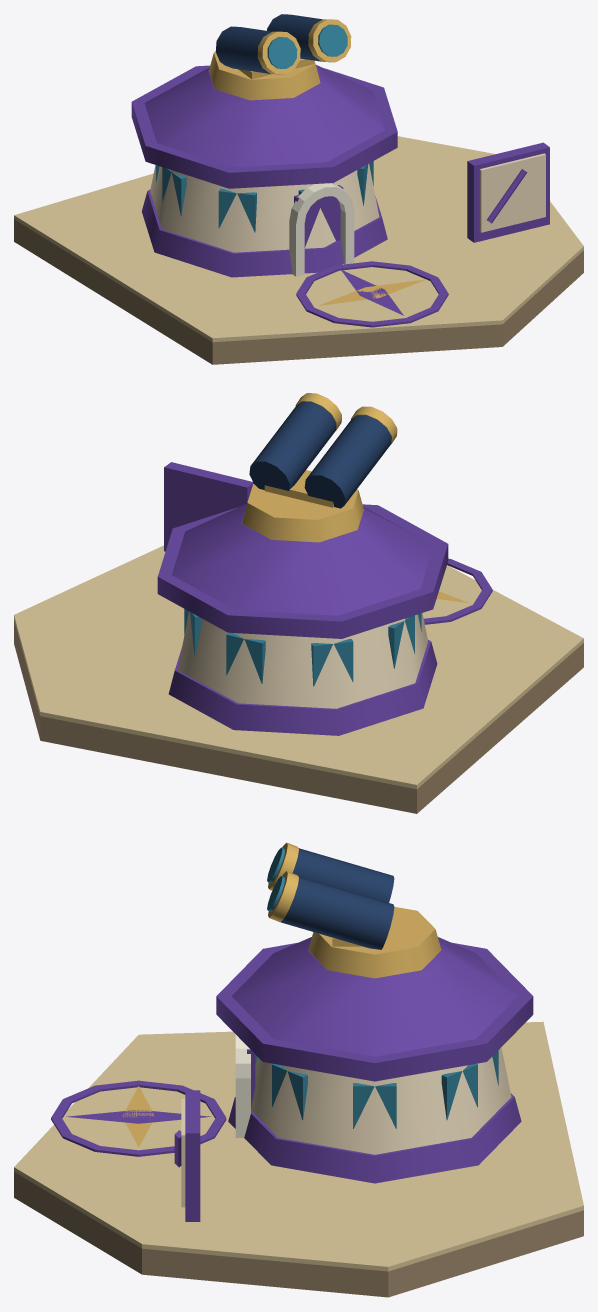
File: scout-center-lv1.glb
The picture shows the model from 3 angles, top to bottom: view 1: azimuth 30°, elevation 25°; view 2: azimuth 150°, elevation 25°; view 3: azimuth 270°, elevation 25°; orthographic projection. The views are drawn at different scales.
Parts seen in each view (by area): view 1: foundation_sand, faceted_roof_violet, foundation_stoneDark, octagonal_office_cream, observation_eave_violet, office_plinth_violet, map_board_cream, compass_violet, roof_binoculars_naval, optic_pedestal_gold, entrance_arch_white, map_board_violet (+5 smaller); view 2: foundation_sand, faceted_roof_violet, foundation_stoneDark, octagonal_office_cream, observation_eave_violet, roof_binoculars_naval, office_plinth_violet, optic_pedestal_gold, map_board_violet, office_windows_glass, optic_rims_gold, compass_violet (+1 smaller); view 3: foundation_sand, faceted_roof_violet, octagonal_office_cream, foundation_stoneDark, observation_eave_violet, office_plinth_violet, roof_binoculars_naval, optic_pedestal_gold, compass_violet, office_windows_glass, map_board_violet, entrance_arch_white (+3 smaller).
Boxes of the visible parts, box(x1,y1,x2,y2) form: foundation_sand: box(14, 136, 583, 342); faceted_roof_violet: box(144, 65, 384, 167); foundation_stoneDark: box(14, 219, 583, 364); octagonal_office_cream: box(150, 163, 379, 252); observation_eave_violet: box(131, 65, 397, 188); office_plinth_violet: box(141, 189, 387, 277); map_board_cream: box(479, 153, 545, 232); compass_violet: box(296, 261, 448, 327); roof_binoculars_naval: box(215, 14, 322, 73); optic_pedestal_gold: box(209, 51, 320, 100); entrance_arch_white: box(289, 183, 354, 276); map_board_violet: box(467, 142, 549, 242); foundation_sand: box(14, 545, 583, 789); faceted_roof_violet: box(172, 503, 434, 615); foundation_stoneDark: box(14, 620, 583, 813); octagonal_office_cream: box(178, 611, 428, 708); observation_eave_violet: box(157, 504, 448, 638); roof_binoculars_naval: box(249, 401, 391, 508); office_plinth_violet: box(168, 640, 437, 735); optic_pedestal_gold: box(242, 484, 363, 542); map_board_violet: box(164, 462, 253, 551); office_windows_glass: box(184, 609, 421, 686); optic_rims_gold: box(295, 393, 397, 443); compass_violet: box(423, 558, 492, 624); foundation_sand: box(14, 1021, 583, 1271); faceted_roof_violet: box(231, 937, 517, 1056); octagonal_office_cream: box(251, 1047, 511, 1154); foundation_stoneDark: box(14, 1172, 583, 1297); observation_eave_violet: box(216, 942, 533, 1081); office_plinth_violet: box(228, 1093, 521, 1183); roof_binoculars_naval: box(281, 848, 394, 949); optic_pedestal_gold: box(308, 906, 441, 978); compass_violet: box(51, 1080, 226, 1156); office_windows_glass: box(255, 1050, 498, 1128); map_board_violet: box(185, 1090, 200, 1221); entrance_arch_white: box(235, 1034, 250, 1137).
Size of the model in its own units: 1 by 0.5571 by 0.9826.
